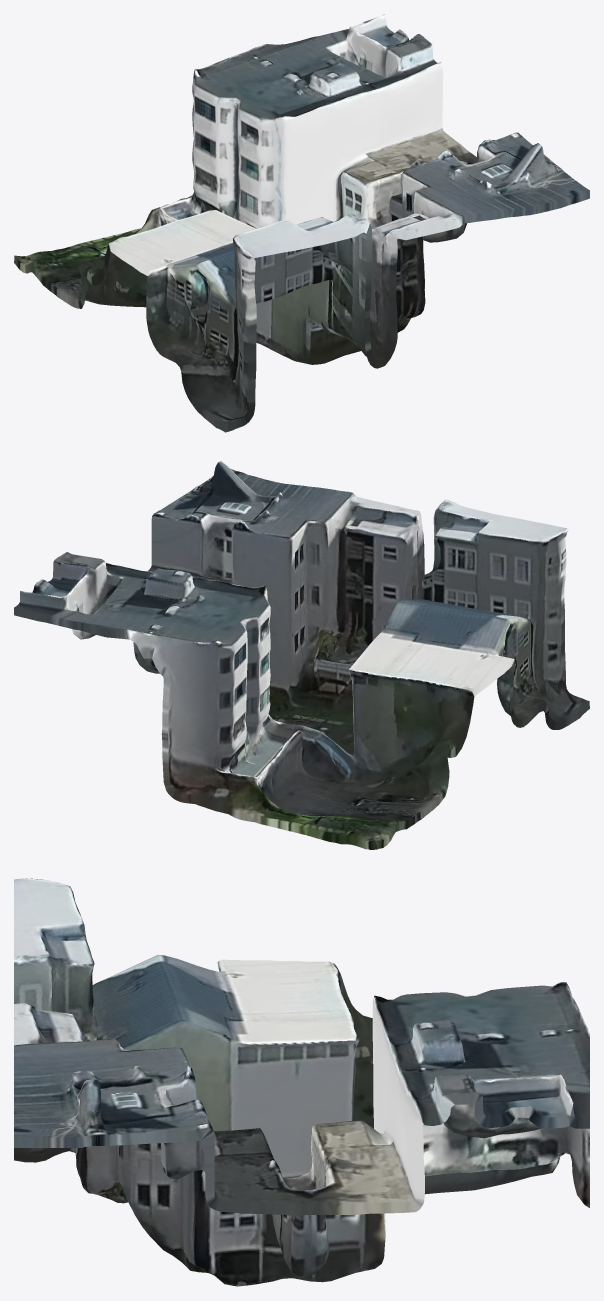
File: z20-167732-405191-h0-yup-uvflip-v3-world.glb
The picture shows the model from 3 angles, top to bottom: view 1: azimuth 30°, elevation 25°; view 2: azimuth 150°, elevation 25°; view 3: azimuth 270°, elevation 25°; orthographic projection. The views are drawn at different scales.
Bounding box in the file's own units: 30.2 × 15.64 × 30.32.
Materials: 1 (1 with a texture image).
